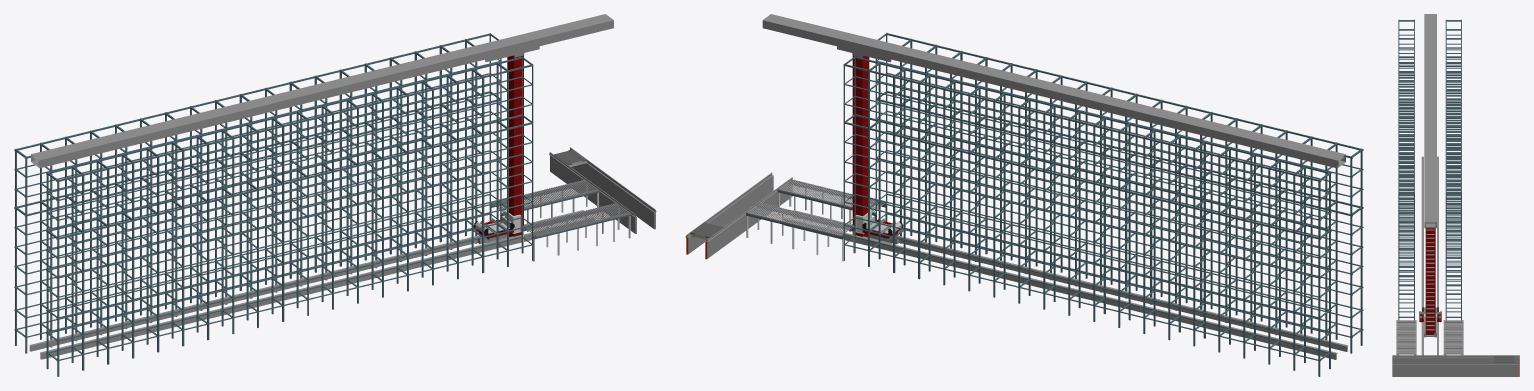
Rendered from CK-huojia0001-ZDH.FBX.
3 views of the same model, side by side, from view 1: azimuth 30°, elevation 25°; view 2: azimuth 150°, elevation 25°; view 3: azimuth 270°, elevation 25° (orthographic). The views are drawn at different scales.
Parts seen in each view (by area): view 1: CK-huojia0001-ZDH; view 2: CK-huojia0001-ZDH; view 3: CK-huojia0001-ZDH.
Part boxes in pixels (x1,y1,x2,y2): CK-huojia0001-ZDH: (14, 14, 656, 376); CK-huojia0001-ZDH: (685, 14, 1363, 376); CK-huojia0001-ZDH: (1392, 14, 1519, 376).
Size of the model in its own units: 31.5 by 10.33 by 7.84.
